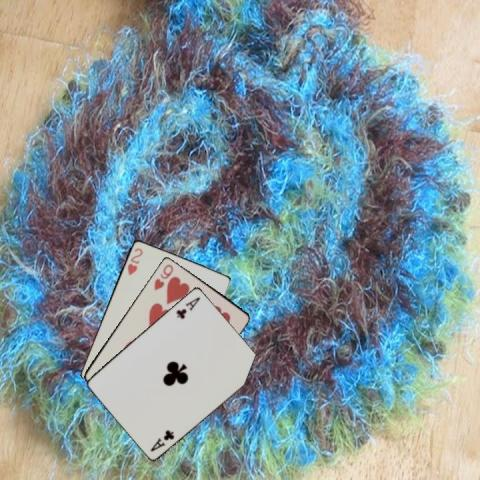2h: (124, 244, 144, 276)
9h: (150, 261, 175, 291)
Ac: (174, 293, 202, 320), (148, 426, 176, 452)
